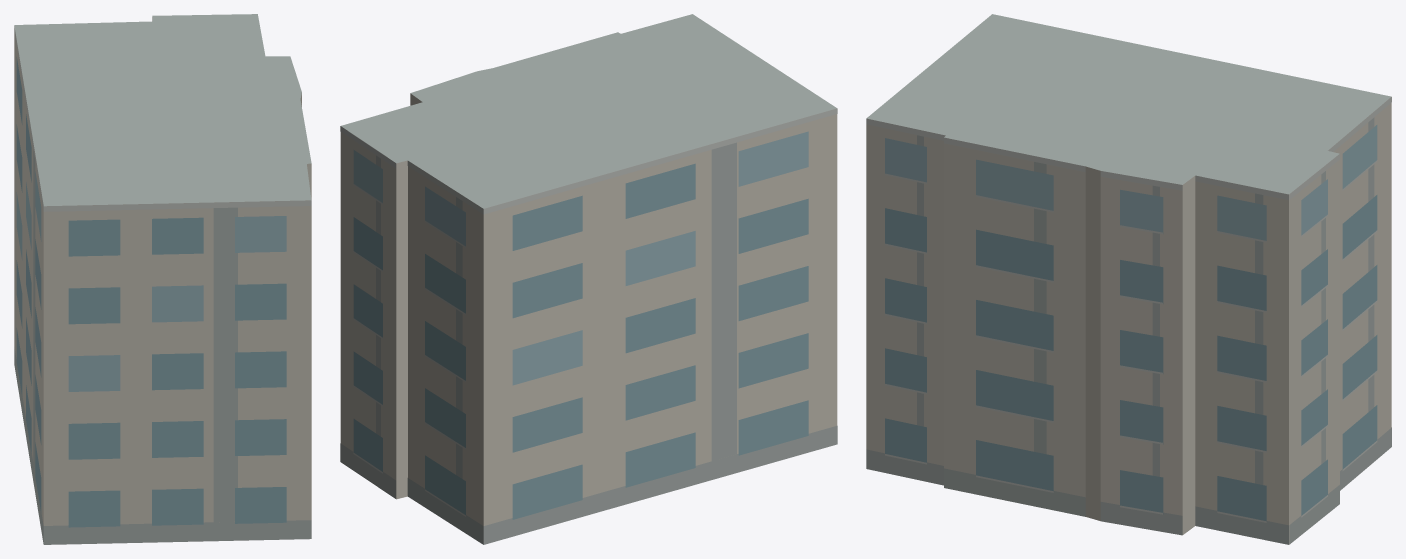
Rendered from survey-upis-32893360.glb.
3 renders of one model, left to right at view 1: azimuth 30°, elevation 25°; view 2: azimuth 150°, elevation 25°; view 3: azimuth 270°, elevation 25°, orthographic. The views are drawn at different scales.
Parts seen in each view (by area): view 1: survey-upis-32893360.tmp; view 2: survey-upis-32893360.tmp; view 3: survey-upis-32893360.tmp.
Boxes of the visible parts, x1,y1,x2,y2 form: survey-upis-32893360.tmp: [14, 14, 311, 544]; survey-upis-32893360.tmp: [340, 14, 837, 544]; survey-upis-32893360.tmp: [866, 14, 1391, 544].
Bounding box in the file's own units: 16.13 × 14.6 × 19.85.
